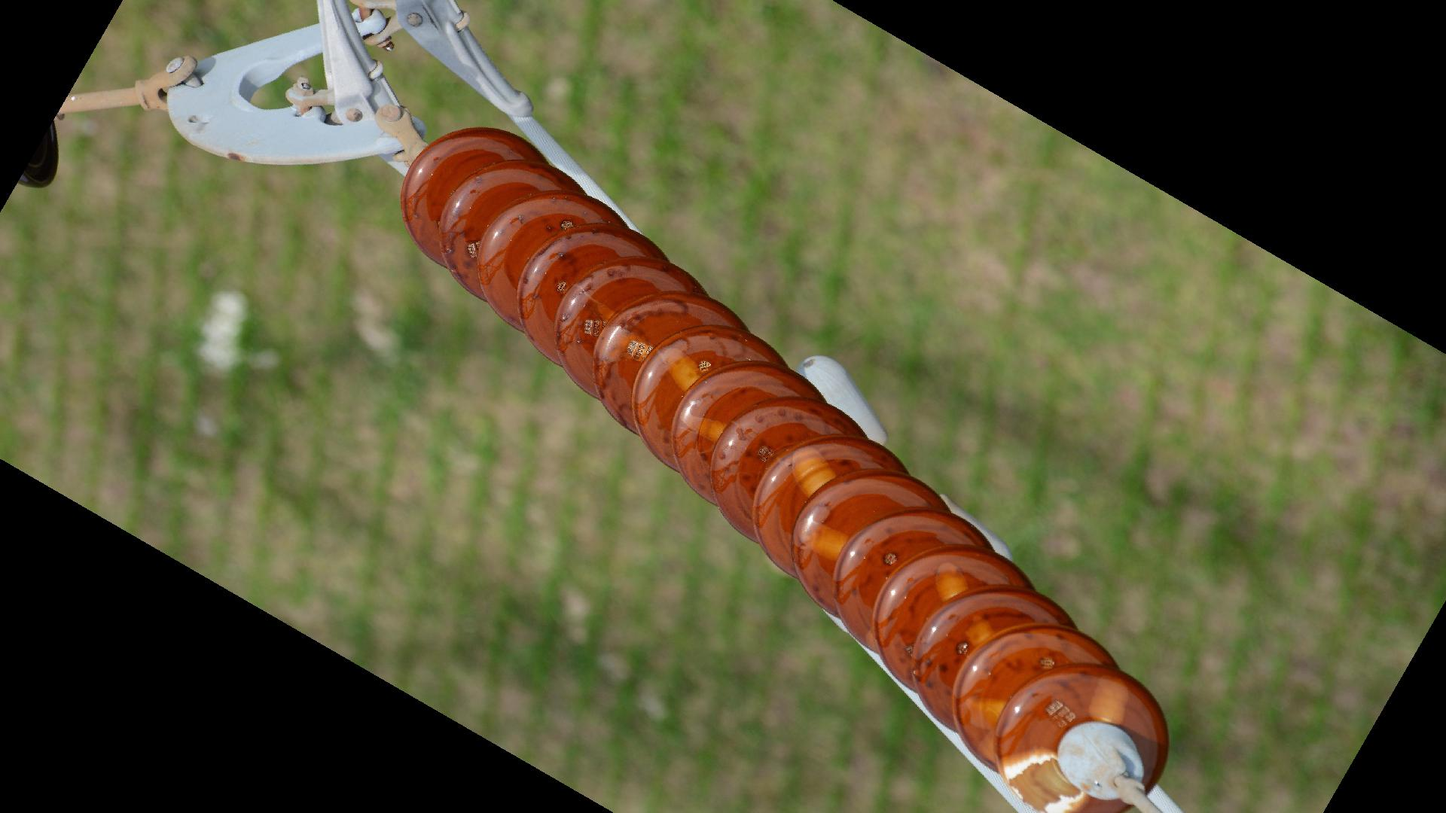insulator: (392, 123, 1181, 813)
insulator_flashover: (996, 746, 1087, 813), (954, 694, 1009, 774), (788, 443, 837, 500), (795, 515, 852, 563), (1085, 671, 1130, 726), (656, 345, 705, 391), (930, 559, 970, 603), (679, 412, 727, 446)
